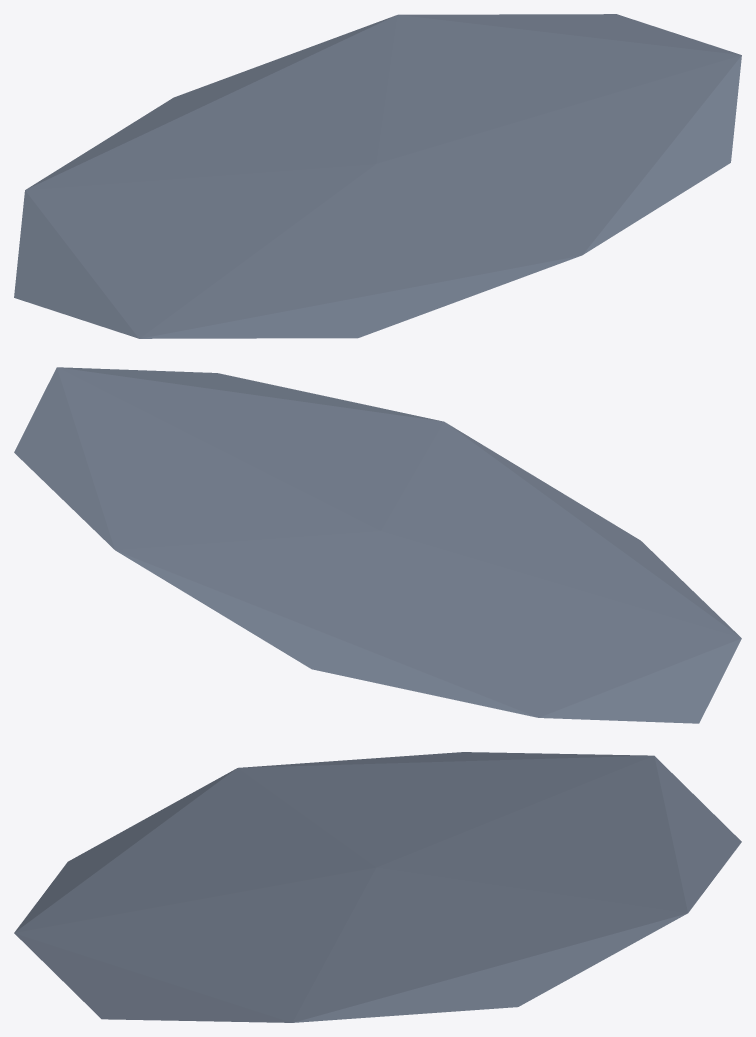
The model's file is EXTG_SouthRoad_09.glb.
3 views of the same model, one above another, from view 1: azimuth 30°, elevation 25°; view 2: azimuth 150°, elevation 25°; view 3: azimuth 270°, elevation 25° (orthographic). The views are drawn at different scales.
Parts seen in each view (by area): view 1: EXTG_SouthRoad_09; view 2: EXTG_SouthRoad_09; view 3: EXTG_SouthRoad_09.
Part boxes in pixels (x1,y1,x2,y2): EXTG_SouthRoad_09: (14,14,741,338); EXTG_SouthRoad_09: (14,367,741,723); EXTG_SouthRoad_09: (14,752,741,1022).
Size of the model in its own units: 1.77 by 0.3214 by 1.23.
